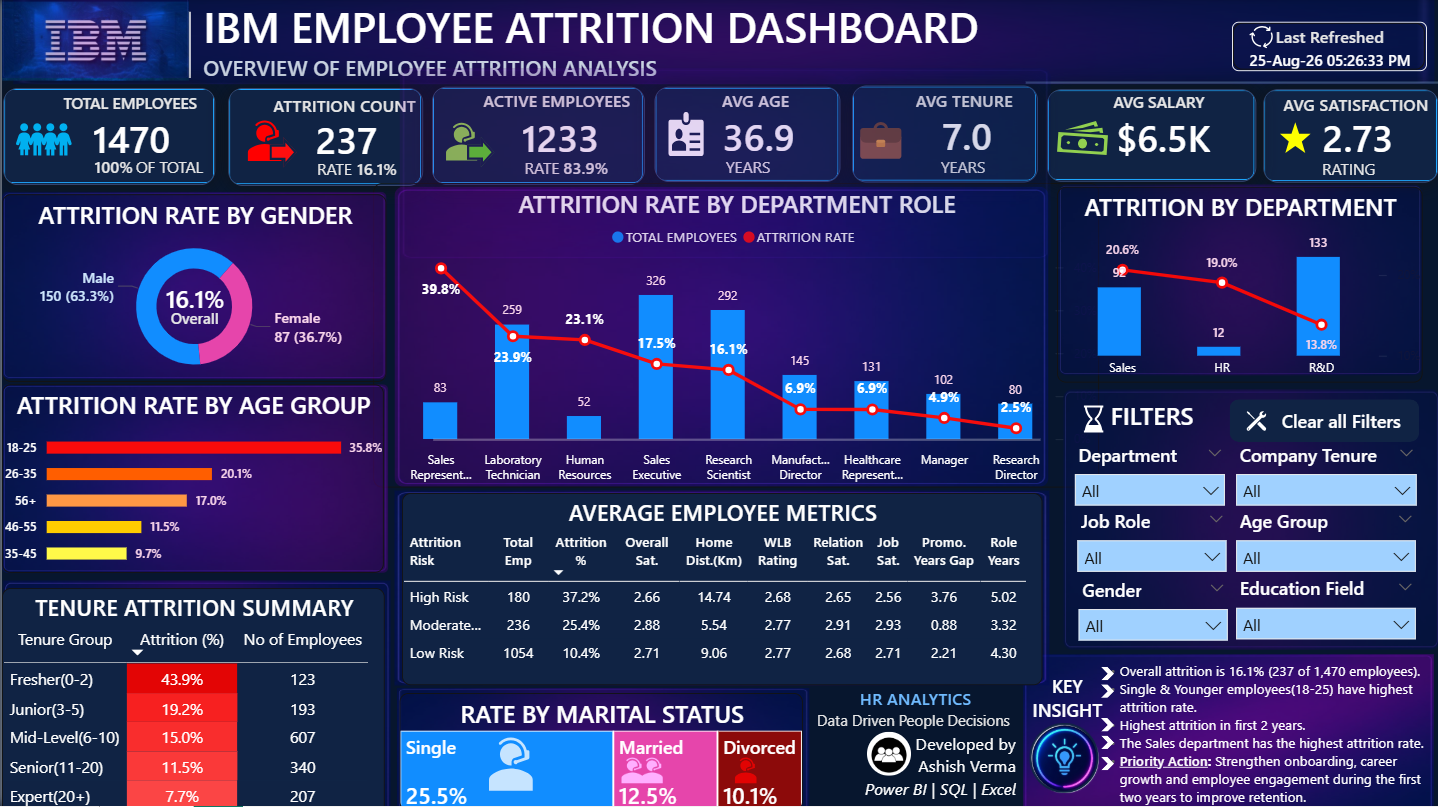

What the dashboard file says about the page in this screenshot:
{"tool":"powerbi","page":{"name":"OVERVIEW","canvas":[1280,720],"ordinal":0},"visuals":[{"type":"image","box":[353.6,62.5,580,170.6],"z":0,"group":"g27"},{"type":"cardVisual","fields":{"Data":["_Measures.Average Tenure"]},"box":[756.8,77.7,165.9,86.6],"z":0,"group":"g13"},{"type":"cardVisual","fields":{"Data":["_Measures.Active Employees"]},"box":[383.4,78.8,189.4,87.2],"z":0,"group":"g10"},{"type":"cardVisual","fields":{"Data":["_Measures.AVERAGE AGE"]},"box":[581.7,78.8,165.9,85.1],"z":0,"group":"g12"},{"type":"cardVisual","fields":{"Data":["_Measures.TOTAL EMPLOYEES"]},"box":[1.5,80.3,189,86.6],"z":0,"group":"g7"},{"type":"cardVisual","fields":{"Data":["_Measures.Average Salary"]},"box":[930.6,80.6,186.1,82.2],"z":0,"group":"g22"},{"type":"group","id":"g1","title":"Group 2","box":[1123.5,80.7,156,83],"z":0,"group":"g11"},{"type":"cardVisual","fields":{"Data":["_Measures.Average Overall Satisfaction"]},"box":[1123.5,80.7,156,83],"z":0,"group":"g1"},{"type":"image","box":[0,172.4,342.7,167.2],"z":0,"group":"g15"},{"type":"image","box":[945.1,348.7,335.2,232.4],"z":0,"group":"g21"},{"type":"image","box":[349,439.1,582.9,174],"z":0,"group":"g20"},{"type":"image","box":[1.2,519,344.7,218.8],"z":0,"group":"g23"},{"type":"image","box":[909.3,584.3,365.9,141],"z":0,"group":"g6"},{"type":"image","box":[351.2,615,367.5,112.2],"z":0,"group":"g17"},{"type":"image","box":[9.6,0,1265.6,76.7],"z":1000,"group":"g27"},{"type":"cardVisual","fields":{"Data":["_Measures.Attrition Count"]},"box":[201.5,79.9,173.4,87.2],"z":1000,"group":"g9"},{"type":"group","id":"g2","title":"Group 2","box":[930.6,80.6,196,82.2],"z":1000,"group":"g11"},{"type":"cardVisual","fields":{"Data":["_Measures.% of Total Employee"]},"box":[83.1,140.6,46.3,19.4],"z":1000,"group":"g7"},{"type":"cardVisual","fields":{"Data":["_Measures.% Active Emp from Total"]},"box":[500,140.8,47.9,19.1],"z":1000,"group":"g10"},{"type":"donutChart","title":"ATTRITION RATE BY GENDER","fields":{"Category":["Dim_Employee_Profile.Gender"],"Y":["_Measures.Attrition Count"]},"box":[0,174.1,342.7,167.2],"z":1000,"group":"g15"},{"type":"group","id":"g3","title":"Group 18","box":[950.7,395.2,314.6,183.1],"z":1000,"group":"g21"},{"type":"tableEx","title":"TENURE ATTRITION SUMMARY","fields":{"Values":["Dim_Work_Experience.Experience_Group","_Measures.ATTRITION RATE","_Measures.TOTAL EMPLOYEES"]},"box":[0,525.9,341.2,207.1],"z":1000,"group":"g23"},{"type":"textbox","box":[977,590.7,290.6,130.7],"z":1000,"group":"g24"},{"type":"treemap","title":"RATE BY MARITAL STATUS","fields":{"Group":["Dim_Employee_Profile.Marital_Status"],"Values":["_Measures.ATTRITION RATE"]},"box":[352.9,619.9,359.5,105.1],"z":1000,"group":"g17"},{"type":"textbox","box":[428.7,81,154.4,37.5],"z":2000,"group":"g10"},{"type":"textbox","box":[641.3,81,105.3,27.4],"z":2000,"group":"g12"},{"type":"textbox","box":[813.9,81.3,119.7,31.7],"z":2000,"group":"g13"},{"type":"textbox","box":[989.6,81.3,137.1,20.2],"z":2000,"group":"g22"},{"type":"textbox","box":[54.4,83.9,144.8,22.9],"z":2000,"group":"g7"},{"type":"textbox","box":[1141,84.1,135.8,32.7],"z":2000,"group":"g1"},{"type":"textbox","box":[1176.4,142.6,59.6,19.1],"z":2000,"group":"g11"},{"type":"group","id":"g4","title":"Group 9","box":[145.7,251.6,67.8,43.7],"z":2000,"group":"g15"},{"type":"group","id":"g5","title":"Group 24","box":[957.8,357.7,112.7,35.2],"z":2000,"group":"g21"},{"type":"group","id":"g6","title":"Group 17","box":[908.9,584.3,366.3,141],"z":2000,"group":"g27"},{"type":"image","box":[908.9,645.6,73,62],"z":2000,"group":"g6"},{"type":"image","box":[394.5,652.6,115.3,59.7],"z":2000,"group":"g17"},{"type":"image","box":[0,0,166.6,76.7],"z":3000,"group":"g27"},{"type":"group","id":"g7","title":"Group 1","box":[1.5,80.3,215.4,86.6],"z":3000,"group":"g11"},{"type":"cardVisual","fields":{"Data":["_Measures.% attrition of total employee"]},"box":[316.6,142.8,46.8,18.1],"z":3000,"group":"g9"},{"type":"group","id":"g8","title":"Group 23","box":[1093,357.7,169,38],"z":3000,"group":"g21"},{"type":"textbox","box":[916.8,600.9,62.9,48.8],"z":3000,"group":"g6"},{"type":"image","box":[636.2,673.8,51.2,28.8],"z":3000,"group":"g17"},{"type":"textbox","box":[179.8,0,799.9,77.2],"z":4000,"group":"g27"},{"type":"group","id":"g9","title":"Group 6","box":[201.5,79.9,190.2,87.2],"z":4000,"group":"g11"},{"type":"shape","box":[978.4,595,12,12.3],"z":4000,"group":"g24"},{"type":"image","box":[516.2,673.8,107.5,28.8],"z":4000,"group":"g17"},{"type":"shape","box":[160,12,14,59],"z":5000,"group":"g27"},{"type":"group","id":"g10","title":"Group 3","box":[383.4,78.8,199.7,87.2],"z":5000,"group":"g11"},{"type":"textbox","box":[241.6,85.2,150,21.6],"z":5000,"group":"g9"},{"type":"shape","box":[978.4,610.5,12,12.3],"z":5000,"group":"g24"},{"type":"cardVisual","fields":{"Data":["Max(Last Refreshed.Last Refreshed)"]},"box":[1095.1,21,173.8,44.3],"z":6000,"group":"g26"},{"type":"group","id":"g11","title":"Group 8","box":[1.5,77.7,1278,89.4],"z":6000,"group":"g27"},{"type":"group","id":"g12","title":"Group 4","box":[574.9,78.8,172.7,85.1],"z":6000,"group":"g11"},{"type":"shape","box":[978.4,640.8,12,12.3],"z":6000,"group":"g24"},{"type":"group","id":"g13","title":"Group 5","box":[756.8,77.7,176.8,86.6],"z":7000,"group":"g11"},{"type":"image","box":[770.4,653.6,39,39],"z":7000,"group":"g27"},{"type":"shape","box":[978.4,656.6,12,12.3],"z":7000,"group":"g24"},{"type":"textbox","box":[725.7,613.2,176,39],"z":8000,"group":"g27"},{"type":"shape","box":[978.4,675,12,12.3],"z":8000,"group":"g24"},{"type":"tableEx","title":"AVERAGE EMPLOYEE METRICS","fields":{"Values":["Fact_Employee.Attrition_Risk","_Measures.TOTAL EMPLOYEES","_Measures.ATTRITION RATE","_Measures.Average Overall Satisfaction","Avg(Fact_Employee.Distance_From_Home)","Avg(Fact_Employee.Work_Life_Balance)","Avg(Fact_Employee.Relationship_Satisfaction)","Avg(Fact_Employee.Job_Satisfaction)","Avg(Fact_Employee.Years_Since_Last_Promotion)","Avg(Fact_Employee.Years_In_Current_Role)"]},"box":[355.7,441,570.2,171.2],"z":9500,"group":"g20"},{"type":"textbox","box":[835.8,140.5,47.9,23.4],"z":10000,"group":"g13"},{"type":"group","id":"g14","title":"Group 12","box":[330.6,164.8,646.5,271],"z":10000,"group":"g27"},{"type":"image","box":[0,845.2,70,41.4],"z":10000,"group":"g18"},{"type":"cardVisual","fields":{"Data":["_Measures.% attrition of total employee"]},"box":[145.7,251.6,67.8,30.1],"z":11000,"group":"g4"},{"type":"donutChart","title":"ATTRITION RATE BY GENDER","fields":{"Category":["Dim_Employee_Profile.Gender"],"Y":["_Measures.Attrition Count"]},"box":[1334.5,950.9,310.9,129.1],"z":11000,"group":"g27"},{"type":"image","box":[349.4,168.3,582.7,267.5],"z":11500,"group":"g25"},{"type":"textbox","box":[644.8,140.1,41.5,23.4],"z":12000,"group":"g12"},{"type":"textbox","box":[119.6,140.4,97.2,24.1],"z":12000,"group":"g7"},{"type":"group","id":"g15","title":"Group 10","box":[0,172.4,344.4,168.5],"z":12000,"group":"g27"},{"type":"textbox","box":[150.2,275.1,52.4,20.1],"z":12000,"group":"g4"},{"type":"group","id":"g16","title":"Group 13","box":[0,344.4,342.6,168.5],"z":13000,"group":"g27"},{"type":"image","box":[574.9,93.5,69.3,54.8],"z":13500,"group":"g12"},{"type":"image","box":[935.8,96.4,51.9,54.8],"z":13500,"group":"g22"},{"type":"image","box":[8.9,98.1,56.4,57.4],"z":13500,"group":"g7"},{"type":"image","box":[388.7,103.8,41.5,48.9],"z":13500,"group":"g10"},{"type":"image","box":[1126.8,107.9,50.1,33],"z":13500,"group":"g1"},{"type":"textbox","box":[756.9,97.5,67,62],"z":13502,"group":"g13"},{"type":"shape","box":[414.1,123.8,24.5,27.4],"z":14000,"group":"g10"},{"type":"group","id":"g17","title":"Group 14","box":[351.2,615,367.5,112.2],"z":14000,"group":"g27"},{"type":"image","box":[211.1,103.8,44.7,47.9],"z":15000,"group":"g9"},{"type":"image","box":[0,344.6,343.8,167.9],"z":15000,"group":"g16"},{"type":"group","id":"g18","title":"Group 16","box":[0,813.8,521.2,88.8],"z":15000,"group":"g27"},{"type":"image","box":[334.3,820.9,94.3,62.9],"z":15000,"group":"g18"},{"type":"group","id":"g19","title":"Group 20","box":[939.4,166.2,325.4,177.5],"z":16000,"group":"g27"},{"type":"image","box":[940.5,166.2,323.9,170.4],"z":16000,"group":"g19"},{"type":"image","box":[435.7,823.8,85.7,57.1],"z":16000,"group":"g18"},{"type":"shape","box":[238.7,123.8,24.5,27.7],"z":17000,"group":"g9"},{"type":"group","id":"g20","title":"Group 15","box":[349,439.1,582.9,174],"z":17000,"group":"g27"},{"type":"image","box":[80,829.5,95.7,57.1],"z":17000,"group":"g18"},{"type":"image","box":[0,0,166.2,71.2],"z":18000,"group":"g27"},{"type":"textbox","box":[280.6,141.7,47.9,21.3],"z":18000,"group":"g9"},{"type":"image","box":[194.3,813.8,108.6,88.6],"z":18000,"group":"g18"},{"type":"textbox","box":[465.3,140.8,35.1,22.3],"z":19000,"group":"g10"},{"type":"lineClusteredColumnComboChart","title":"ATTRITION RATE BY DEPARTMENT ROLE","fields":{"Category":["Dim_JobRole.Job_Role"],"Y2":["_Measures.Attrition Rate"],"Y":["_Measures.TOTAL EMPLOYEES"]},"box":[330.6,164.8,646.3,271.2],"z":19000,"group":"g25"},{"type":"group","id":"g21","title":"Group 21","box":[945.1,348.7,335.2,232.4],"z":19000,"group":"g27"},{"type":"slicer","fields":{"Values":["Dim_Employee_Profile.Age_Group"]},"box":[1094.6,453.7,169.5,63.4],"z":19000,"group":"g3"},{"type":"group","id":"g22","title":"Group 7","box":[930.6,80.6,196,82.2],"z":19005,"group":"g2"},{"type":"lineStackedColumnComboChart","title":"ATTRITION BY DEPARTMENT","fields":{"Category":["Dim_JobRole.Department"],"Y":["_Measures.Attrition Count"],"Y2":["_Measures.ATTRITION RATE"]},"box":[939.4,168.4,325.4,174.6],"z":20000,"group":"g19"},{"type":"clusteredBarChart","title":"ATTRITION RATE BY AGE GROUP","fields":{"Category":["Dim_Employee_Profile.Age_Group"],"Y":["_Measures.Attrition Rate"]},"box":[0,344.4,339.8,167.8],"z":20000,"group":"g16"},{"type":"image","box":[957.8,357.7,29.6,35.2],"z":20000,"group":"g5"},{"type":"slicer","fields":{"Values":["Dim_Work_Experience.Company_Tenure"]},"box":[1094.6,395.2,170.7,63.4],"z":20000,"group":"g3"},{"type":"group","id":"g23","title":"Group 26","box":[0,519,345.9,218.8],"z":20000,"group":"g27"},{"type":"group","id":"g24","title":"Group 19","box":[977,590.7,290.6,130.7],"z":20001,"group":"g6"},{"type":"textbox","box":[980,89,300,182],"z":21000,"group":"g27"},{"type":"textbox","box":[987.4,357.7,83.1,32.4],"z":21000,"group":"g5"},{"type":"slicer","fields":{"Values":["Dim_Employee_Profile.Gender"]},"box":[953.5,514.9,142.3,63.4],"z":21000,"group":"g3"},{"type":"group","id":"g25","title":"Group 11","box":[330.6,164.8,646.5,271],"z":21001,"group":"g14"},{"type":"shape","box":[384.1,380.3,540.8,25.4],"z":21501,"group":"g14"},{"type":"actionButton","box":[1093,357.7,169,38],"z":22000,"group":"g8"},{"type":"slicer","fields":{"Values":["Dim_Employee_Profile.Education_Field"]},"box":[1094.6,514.7,169.5,63.4],"z":22000,"group":"g3"},{"type":"textbox","box":[747.5,653.8,155,66.2],"z":22000,"group":"g27"},{"type":"group","id":"g26","title":"Group 22","box":[1095.1,20,173.8,45.3],"z":23000,"group":"g27"},{"type":"image","box":[1098.6,366.2,36.6,21.1],"z":23000,"group":"g8"},{"type":"slicer","fields":{"Values":["Dim_JobRole.Job_Role"]},"box":[953.1,453.7,142.7,62.2],"z":23000,"group":"g3"},{"type":"group","id":"g27","title":"Group 27","box":[0,0,1645.5,1080],"z":23001},{"type":"image","box":[1102,20,30.1,31.2],"z":24000,"group":"g26"},{"type":"slicer","fields":{"Values":["Dim_JobRole.Department"]},"box":[950.7,395.2,143.7,63.4],"z":24000,"group":"g3"}]}

Visuals, with their boxes in screenshot pixels (x1, y1, x2, y2), scaled from the page's 1280x720 canvas onto the 1438x807 screenshot:
image: <region>397, 70, 1049, 261</region>
cardVisual - _Measures.Average Tenure: <region>850, 87, 1037, 184</region>
cardVisual - _Measures.Active Employees: <region>431, 88, 644, 186</region>
cardVisual - _Measures.AVERAGE AGE: <region>654, 88, 840, 184</region>
cardVisual - _Measures.TOTAL EMPLOYEES: <region>2, 90, 214, 187</region>
cardVisual - _Measures.Average Salary: <region>1045, 90, 1255, 182</region>
"Group 2" group: <region>1262, 90, 1437, 183</region>
cardVisual - _Measures.Average Overall Satisfaction: <region>1262, 90, 1437, 183</region>
image: <region>0, 193, 385, 381</region>
image: <region>1062, 391, 1437, 651</region>
image: <region>392, 492, 1047, 687</region>
image: <region>1, 582, 389, 806</region>
image: <region>1022, 655, 1433, 806</region>
image: <region>395, 689, 807, 806</region>
image: <region>11, 0, 1433, 86</region>
cardVisual - _Measures.Attrition Count: <region>226, 90, 421, 187</region>
"Group 2" group: <region>1045, 90, 1266, 182</region>
cardVisual - _Measures.% of Total Employee: <region>93, 158, 145, 179</region>
cardVisual - _Measures.% Active Emp from Total: <region>562, 158, 616, 179</region>
"ATTRITION RATE BY GENDER" donutChart: <region>0, 195, 385, 383</region>
"Group 18" group: <region>1068, 443, 1421, 648</region>
"TENURE ATTRITION SUMMARY" tableEx: <region>0, 589, 383, 806</region>
textbox: <region>1098, 662, 1424, 806</region>
"RATE BY MARITAL STATUS" treemap: <region>396, 695, 800, 806</region>
textbox: <region>482, 91, 655, 133</region>
textbox: <region>720, 91, 839, 121</region>
textbox: <region>914, 91, 1049, 127</region>
textbox: <region>1112, 91, 1266, 114</region>
textbox: <region>61, 94, 224, 120</region>
textbox: <region>1282, 94, 1434, 131</region>
textbox: <region>1322, 160, 1389, 181</region>
"Group 9" group: <region>164, 282, 240, 331</region>
"Group 24" group: <region>1076, 401, 1203, 440</region>
"Group 17" group: <region>1021, 655, 1433, 806</region>
image: <region>1021, 724, 1103, 793</region>
image: <region>443, 731, 573, 798</region>
image: <region>0, 0, 187, 86</region>
"Group 1" group: <region>2, 90, 244, 187</region>
cardVisual - _Measures.% attrition of total employee: <region>356, 160, 408, 180</region>
"Group 23" group: <region>1228, 401, 1418, 444</region>
textbox: <region>1030, 674, 1101, 728</region>
image: <region>715, 755, 772, 787</region>
textbox: <region>202, 0, 1101, 87</region>
"Group 6" group: <region>226, 90, 440, 187</region>
shape: <region>1099, 667, 1113, 681</region>
image: <region>580, 755, 701, 787</region>
shape: <region>180, 13, 195, 80</region>
"Group 3" group: <region>431, 88, 655, 186</region>
textbox: <region>271, 95, 440, 120</region>
shape: <region>1099, 684, 1113, 698</region>
cardVisual - Max(Last Refreshed.Last Refreshed): <region>1230, 24, 1426, 73</region>
"Group 8" group: <region>2, 87, 1437, 187</region>
"Group 4" group: <region>646, 88, 840, 184</region>
shape: <region>1099, 718, 1113, 732</region>
"Group 5" group: <region>850, 87, 1049, 184</region>
image: <region>865, 733, 909, 776</region>
shape: <region>1099, 736, 1113, 750</region>
textbox: <region>815, 687, 1013, 731</region>
shape: <region>1099, 757, 1113, 770</region>
"AVERAGE EMPLOYEE METRICS" tableEx: <region>400, 494, 1040, 686</region>
textbox: <region>939, 157, 993, 184</region>
"Group 12" group: <region>371, 185, 1098, 488</region>
cardVisual - _Measures.% attrition of total employee: <region>164, 282, 240, 316</region>
image: <region>393, 189, 1047, 488</region>
textbox: <region>724, 157, 771, 183</region>
textbox: <region>134, 157, 244, 184</region>
"Group 10" group: <region>0, 193, 387, 382</region>
textbox: <region>169, 308, 228, 331</region>
"Group 13" group: <region>0, 386, 385, 575</region>
image: <region>646, 105, 724, 166</region>
image: <region>1051, 108, 1110, 169</region>
image: <region>10, 110, 73, 174</region>
image: <region>437, 116, 483, 171</region>
image: <region>1266, 121, 1322, 158</region>
textbox: <region>850, 109, 926, 179</region>
shape: <region>465, 139, 493, 169</region>
"Group 14" group: <region>395, 689, 807, 806</region>
image: <region>237, 116, 287, 170</region>
image: <region>0, 386, 386, 574</region>
"Group 20" group: <region>1055, 186, 1421, 385</region>
image: <region>1057, 186, 1420, 377</region>
shape: <region>268, 139, 296, 170</region>
"Group 15" group: <region>392, 492, 1047, 687</region>
image: <region>0, 0, 187, 80</region>
textbox: <region>315, 159, 369, 183</region>
textbox: <region>523, 158, 562, 183</region>
"ATTRITION RATE BY DEPARTMENT ROLE" lineClusteredColumnComboChart: <region>371, 185, 1097, 489</region>
"Group 21" group: <region>1062, 391, 1437, 651</region>
slicer - Dim_Employee_Profile.Age_Group: <region>1230, 509, 1420, 580</region>
"Group 7" group: <region>1045, 90, 1266, 182</region>
"ATTRITION BY DEPARTMENT" lineStackedColumnComboChart: <region>1055, 189, 1421, 384</region>
"ATTRITION RATE BY AGE GROUP" clusteredBarChart: <region>0, 386, 382, 574</region>
image: <region>1076, 401, 1109, 440</region>
slicer - Dim_Work_Experience.Company_Tenure: <region>1230, 443, 1421, 514</region>
"Group 26" group: <region>0, 582, 389, 806</region>
"Group 19" group: <region>1098, 662, 1424, 806</region>
textbox: <region>1101, 100, 1437, 304</region>
textbox: <region>1109, 401, 1203, 437</region>
slicer - Dim_Employee_Profile.Gender: <region>1071, 577, 1231, 648</region>
"Group 11" group: <region>371, 185, 1098, 488</region>
shape: <region>432, 426, 1039, 455</region>
actionButton: <region>1228, 401, 1418, 444</region>
slicer - Dim_Employee_Profile.Education_Field: <region>1230, 577, 1420, 648</region>
textbox: <region>840, 733, 1014, 806</region>
"Group 22" group: <region>1230, 22, 1426, 73</region>
image: <region>1234, 410, 1275, 434</region>
slicer - Dim_JobRole.Job_Role: <region>1071, 509, 1231, 578</region>
"Group 27" group: <region>0, 0, 1437, 806</region>
image: <region>1238, 22, 1272, 57</region>
slicer - Dim_JobRole.Department: <region>1068, 443, 1229, 514</region>
